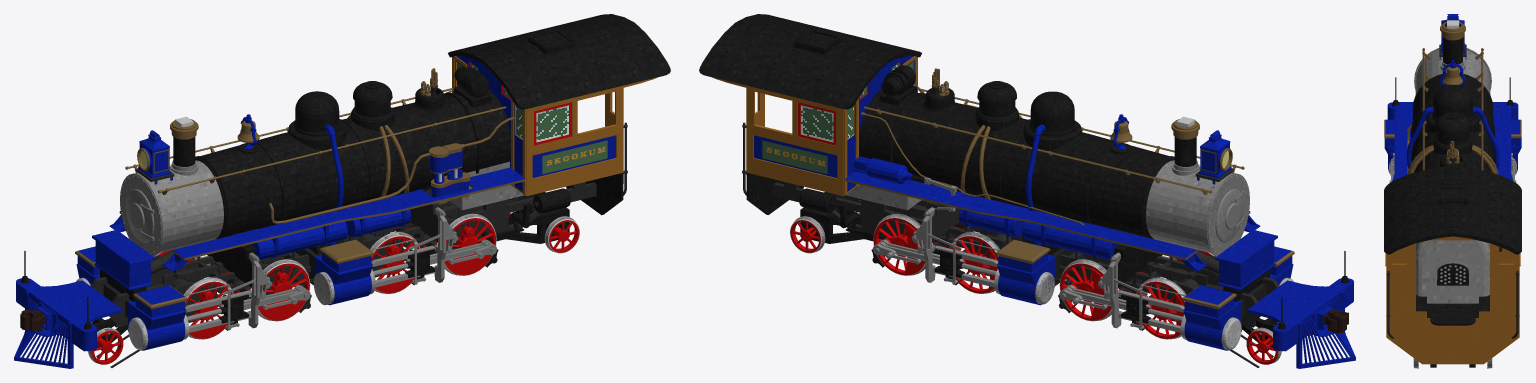
File: skookum.obj
3 views of the same model, side by side, from view 1: azimuth 30°, elevation 25°; view 2: azimuth 150°, elevation 25°; view 3: azimuth 270°, elevation 25° (orthographic). The views are drawn at different scales.
Parts seen in each view (by area): view 1: SHELL_Cylinder.002, CAB_Cube.040, SMOKEBOX_Cylinder, STEAM_CHEST_FRONT_Cube.030, Cube.002_Cube.038, STEAM_CHEST_REAR_Cube.041, FRONT_LOCOMOTIVE.005_Cube.039, FRONT_LOCOMOTIVE.009_Cube.046, Cylinder.015_Cylinder.027, FRAME_Cube.015, FRONT_LOCOMOTIVE.001_Cube, Cylinder.016_Cylinder.057 (+22 smaller); view 2: SHELL_Cylinder.002, CAB_Cube.040, SMOKEBOX_Cylinder, Cube.002_Cube.038, STEAM_CHEST_FRONT_Cube.030, STEAM_CHEST_REAR_Cube.041, FRONT_LOCOMOTIVE.005_Cube.039, FRONT_LOCOMOTIVE.009_Cube.046, Cylinder.015_Cylinder.027, FRAME_Cube.015, FRONT_LOCOMOTIVE.001_Cube, FRONT_LOCOMOTIVE.013_Cube.132 (+22 smaller); view 3: CAB_Cube.040, SHELL_Cylinder.002, FIREBOX_Cylinder.040, Cube.002_Cube.038, SMOKEBOX_Cylinder, STEAM_CHEST_FRONT_Cube.030, Cylinder.013_Cylinder.024, FRONT_LOCOMOTIVE.005_Cube.039, CAB.001_Cube.044, Cube.004_Cube.126, Cube_Cube.063, BELL_Cylinder.025 (+8 smaller).
Boxes of the visible parts, <box> form: SHELL_Cylinder.002: <box>195,81,510,238</box>; CAB_Cube.040: <box>448,14,670,215</box>; SMOKEBOX_Cylinder: <box>120,119,223,256</box>; STEAM_CHEST_FRONT_Cube.030: <box>75,246,251,350</box>; Cube.002_Cube.038: <box>119,167,524,260</box>; STEAM_CHEST_REAR_Cube.041: <box>295,239,435,305</box>; FRONT_LOCOMOTIVE.005_Cube.039: <box>14,251,96,368</box>; FRONT_LOCOMOTIVE.009_Cube.046: <box>92,230,154,301</box>; Cylinder.015_Cylinder.027: <box>251,209,410,259</box>; FRAME_Cube.015: <box>343,182,596,261</box>; FRONT_LOCOMOTIVE.001_Cube: <box>90,252,309,327</box>; Cylinder.016_Cylinder.057: <box>429,143,470,204</box>; SHELL_Cylinder.002: <box>859,81,1174,239</box>; CAB_Cube.040: <box>699,14,921,214</box>; SMOKEBOX_Cylinder: <box>1146,119,1249,256</box>; Cube.002_Cube.038: <box>845,171,1250,260</box>; STEAM_CHEST_FRONT_Cube.030: <box>1118,246,1294,350</box>; STEAM_CHEST_REAR_Cube.041: <box>934,239,1074,305</box>; FRONT_LOCOMOTIVE.005_Cube.039: <box>1273,251,1355,368</box>; FRONT_LOCOMOTIVE.009_Cube.046: <box>1215,229,1277,301</box>; Cylinder.015_Cylinder.027: <box>959,209,1118,259</box>; FRAME_Cube.015: <box>773,182,1026,254</box>; FRONT_LOCOMOTIVE.001_Cube: <box>1060,252,1279,327</box>; FRONT_LOCOMOTIVE.013_Cube.132: <box>1247,280,1328,322</box>; CAB_Cube.040: <box>1384,166,1521,364</box>; SHELL_Cylinder.002: <box>1411,73,1494,172</box>; FIREBOX_Cylinder.040: <box>1416,240,1489,303</box>; Cube.002_Cube.038: <box>1392,105,1513,181</box>; SMOKEBOX_Cylinder: <box>1414,22,1491,94</box>; STEAM_CHEST_FRONT_Cube.030: <box>1384,119,1521,178</box>; Cylinder.013_Cylinder.024: <box>1406,107,1499,169</box>; FRONT_LOCOMOTIVE.005_Cube.039: <box>1387,77,1518,119</box>; CAB.001_Cube.044: <box>1386,270,1519,338</box>; Cube.004_Cube.126: <box>1422,48,1430,170</box>; Cube_Cube.063: <box>1475,48,1483,170</box>; BELL_Cylinder.025: <box>1442,60,1463,85</box>.
Size of the model in its own units: 13.32 by 4.57 by 2.82.
